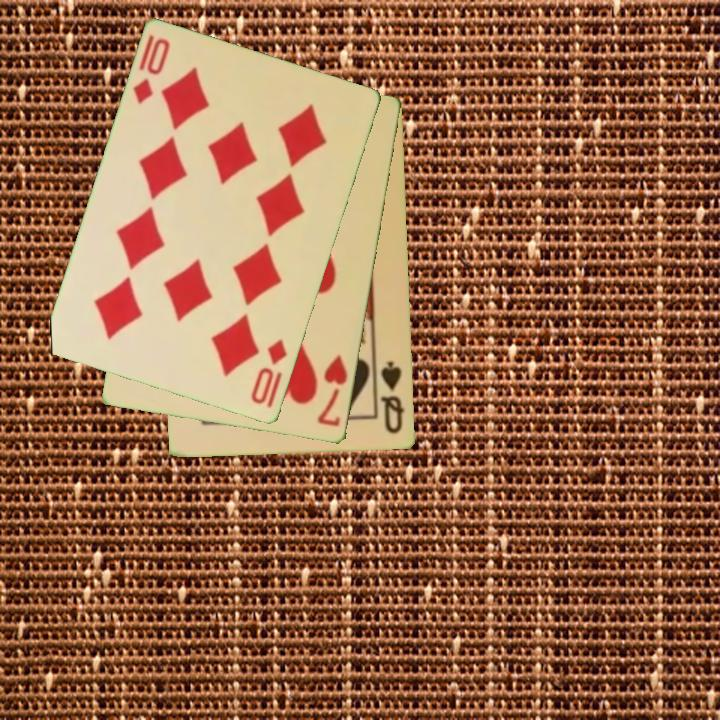10d: (129, 32, 173, 108), (247, 335, 290, 408)
7h: (314, 350, 351, 430)
Qs: (378, 358, 407, 437)
